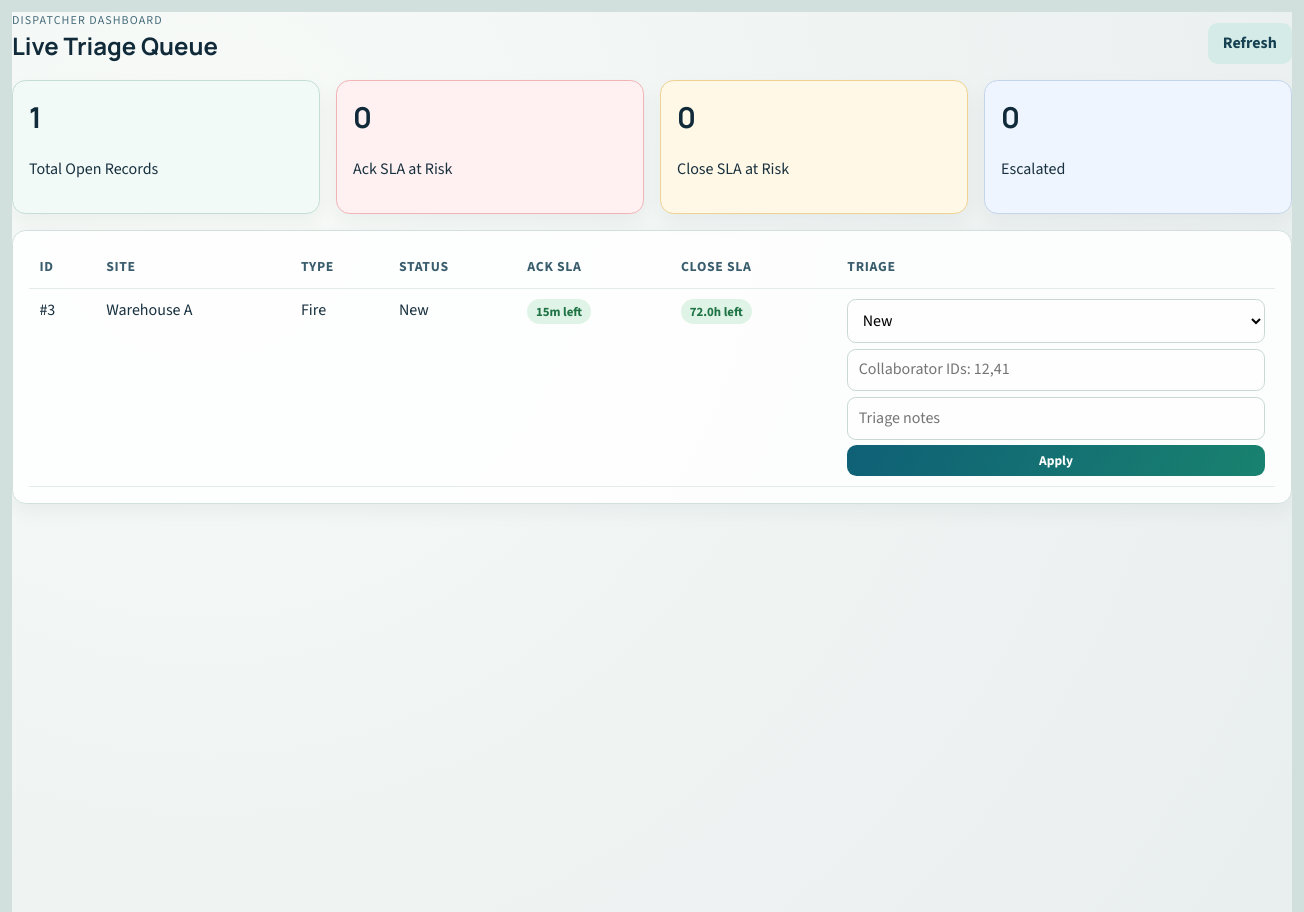
Test case: Triage.vue › shows error when status update fails
This screenshot has width=1304, height=912.
Click the button "Apply" at (1056, 461), box [847,445,1265,476]
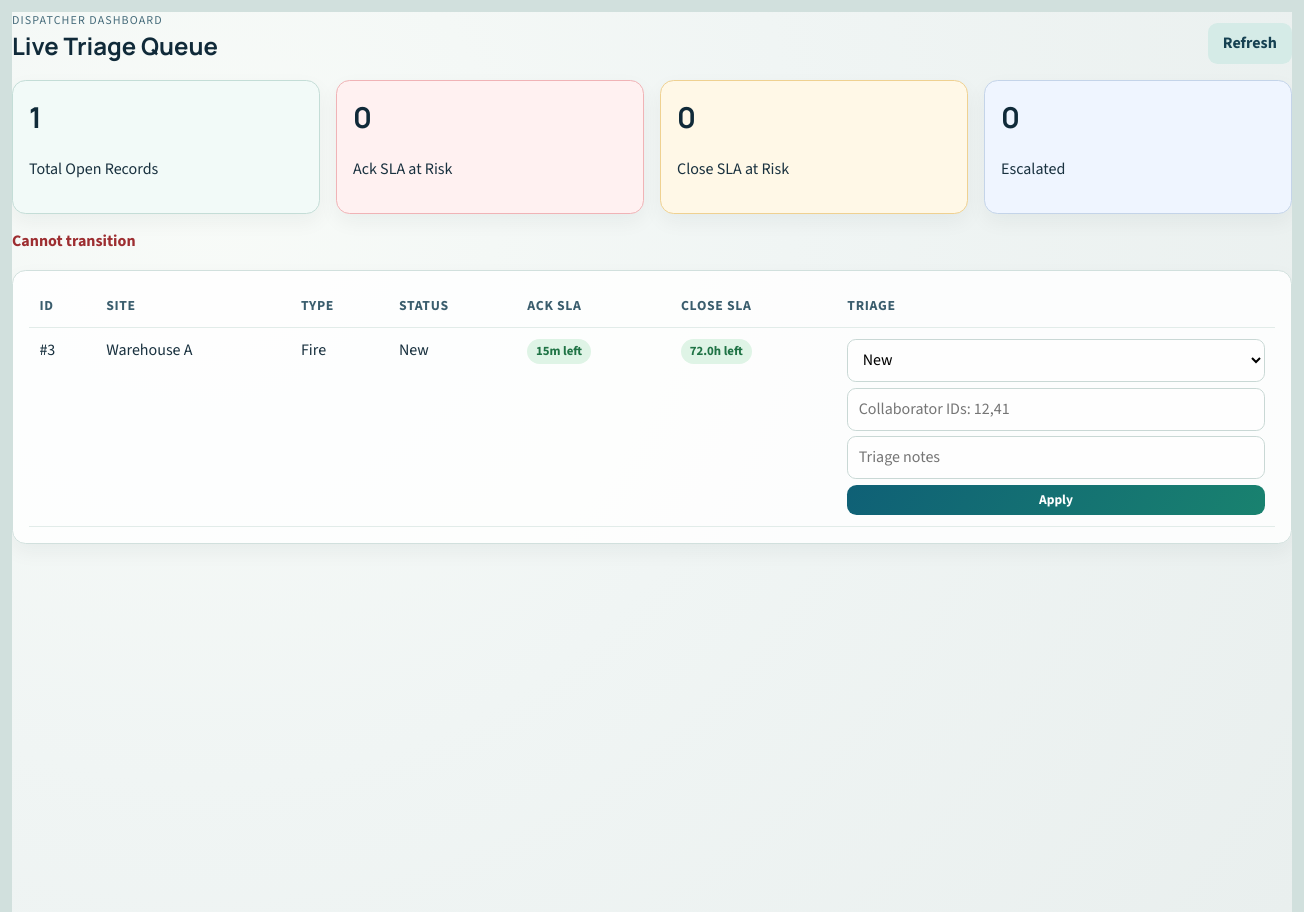
Now the text with class "error" reads "Cannot transition", box [12,230,136,252]
